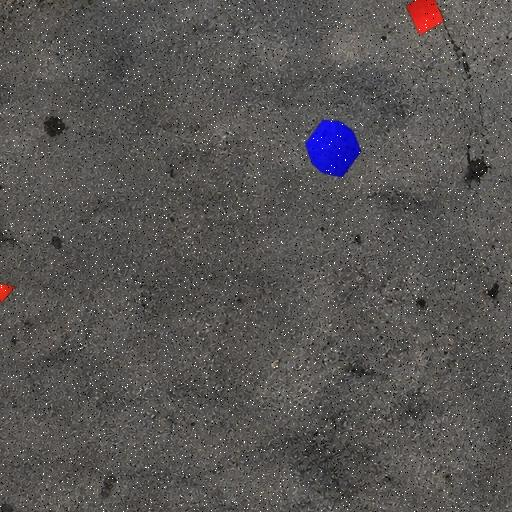RED_SQUARE: (405, 0, 445, 36)
